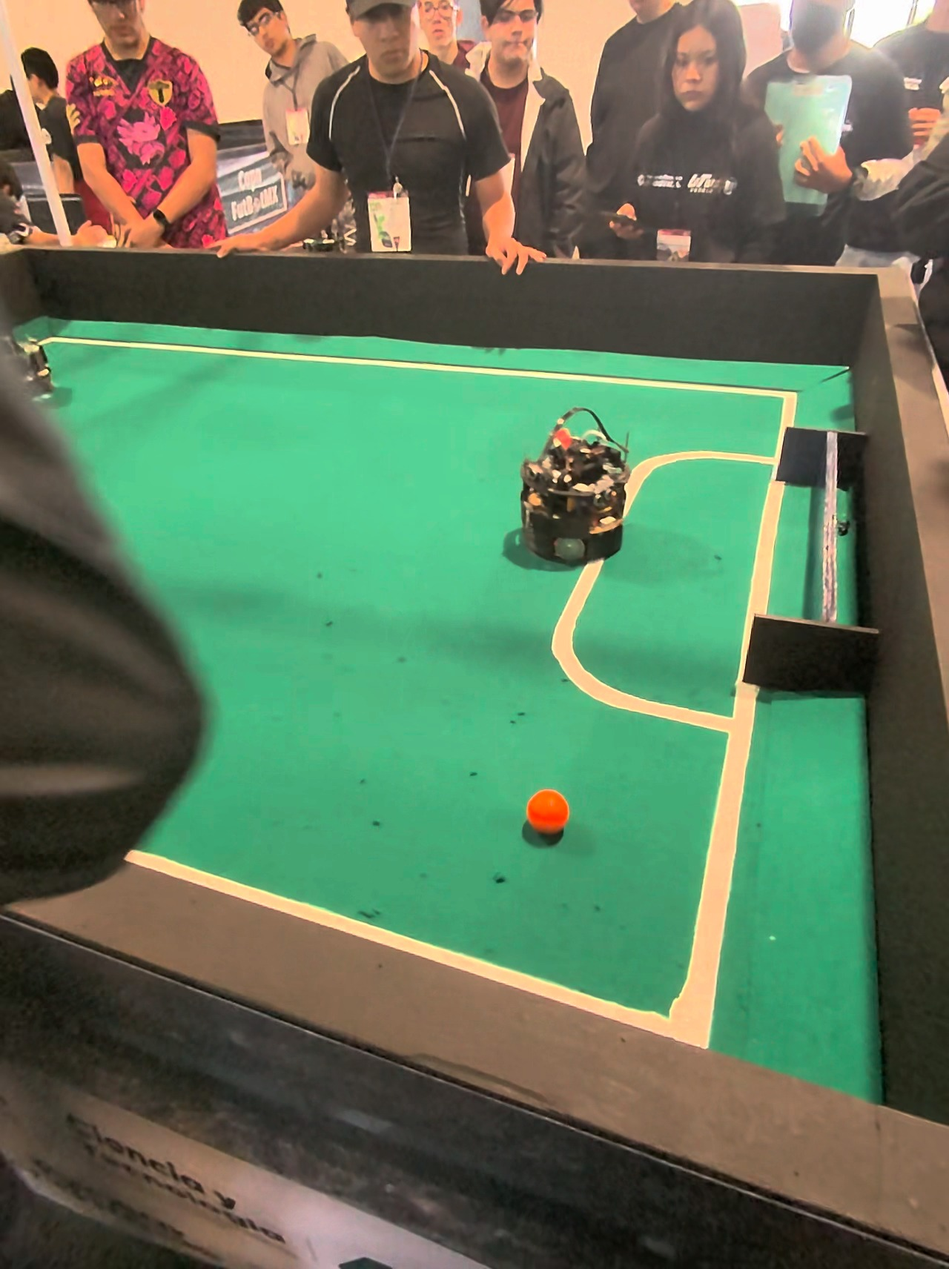Robot: (502, 406, 637, 577)
pelota: (524, 794, 571, 849)
